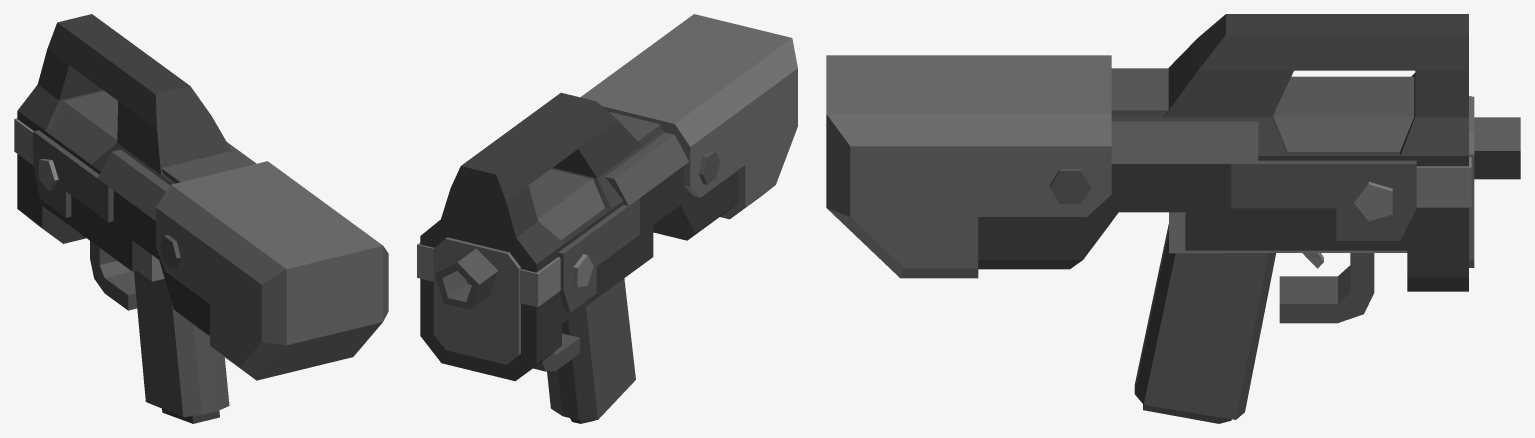
Rendered from pistol_6.glb.
The picture shows the model from 3 angles, left to right: view 1: azimuth 30°, elevation 25°; view 2: azimuth 150°, elevation 25°; view 3: azimuth 270°, elevation 25°; orthographic projection. The views are drawn at different scales.
Parts seen in each view (by area): view 1: pistol_6, pistol_charger_6; view 2: pistol_6; view 3: pistol_6.
Boxes of the visible parts, <box> form: pistol_6: <box>14,14,388,416</box>; pistol_charger_6: <box>162,408,219,423</box>; pistol_6: <box>417,14,797,420</box>; pistol_6: <box>826,14,1520,419</box>.
Bounding box in the file's own units: 0.3816 × 0.8636 × 1.38.
Materials: 1 (1 with a texture image).
